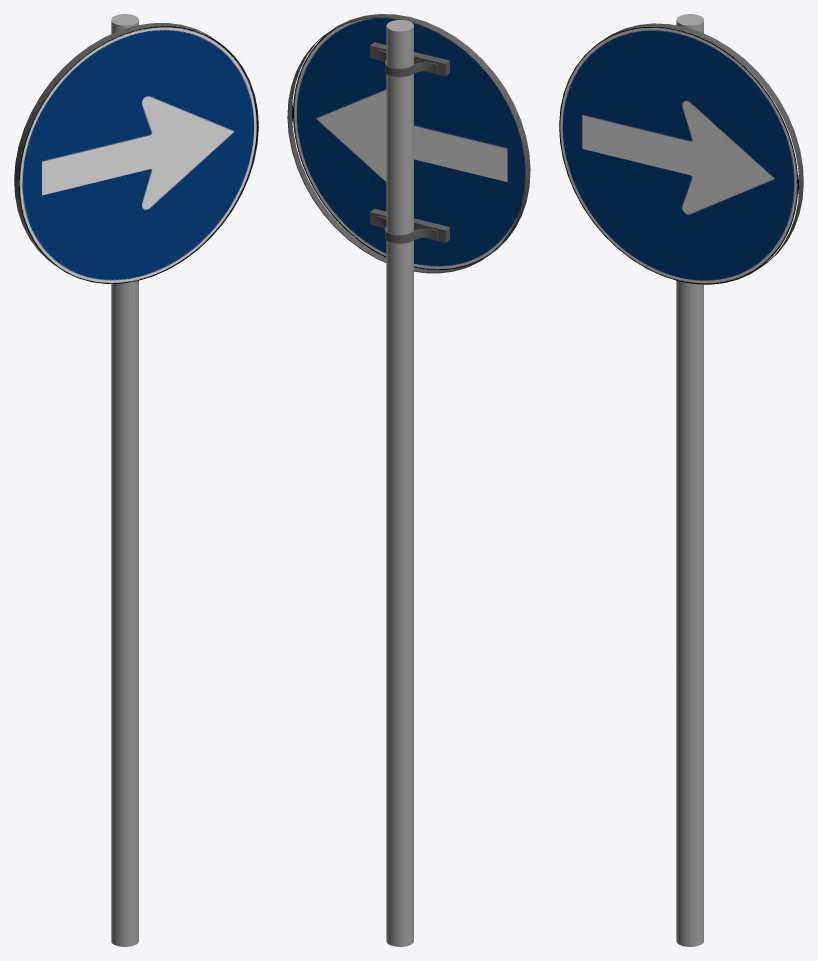
Rendered from T_right.dae.
3 renders of one model, left to right at view 1: azimuth 30°, elevation 25°; view 2: azimuth 150°, elevation 25°; view 3: azimuth 330°, elevation 25°, orthographic.
Parts seen in each view (by area): view 1: Sign.190, Pole.002; view 2: Sign.190, Pole.002; view 3: Sign.190, Pole.002.
Boxes of the visible parts, bbox=[...] form: Sign.190: bbox=[14, 23, 258, 283]; Pole.002: bbox=[111, 14, 138, 946]; Sign.190: bbox=[287, 14, 530, 273]; Pole.002: bbox=[386, 20, 413, 946]; Sign.190: bbox=[559, 23, 803, 284]; Pole.002: bbox=[676, 14, 703, 946].
Bounding box in the file's own units: 0.6 × 0.0869 × 2.2.
Materials: 3 (1 with a texture image).
